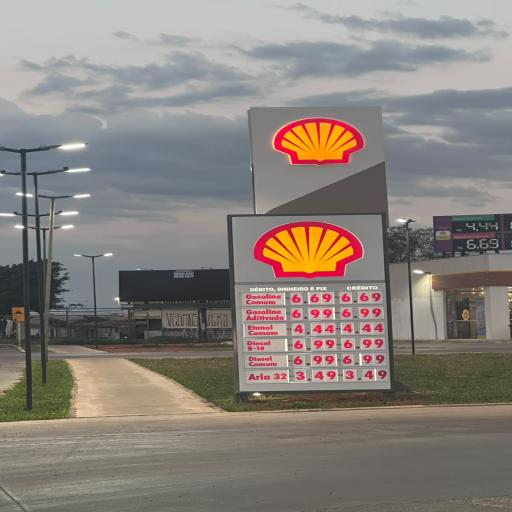ETANOL: (243, 324, 280, 336)
GASOLINA AD: (240, 308, 287, 321)
GASOLINA C: (239, 292, 284, 306)
S10: (243, 339, 277, 352)
S500: (247, 355, 280, 367)
placa: (224, 215, 399, 393)
preco: (290, 307, 334, 320), (289, 292, 334, 304), (292, 354, 335, 366), (293, 339, 336, 350), (292, 324, 334, 334)
